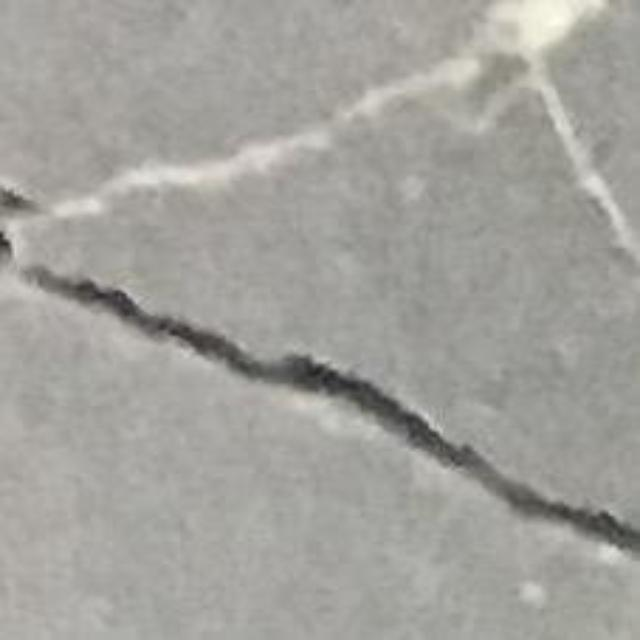crack: (0, 184, 639, 552)
